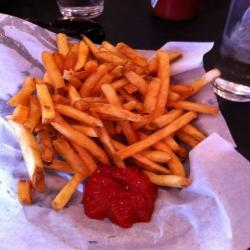fries: (12, 35, 210, 195)
ketchup: (76, 160, 169, 231)
